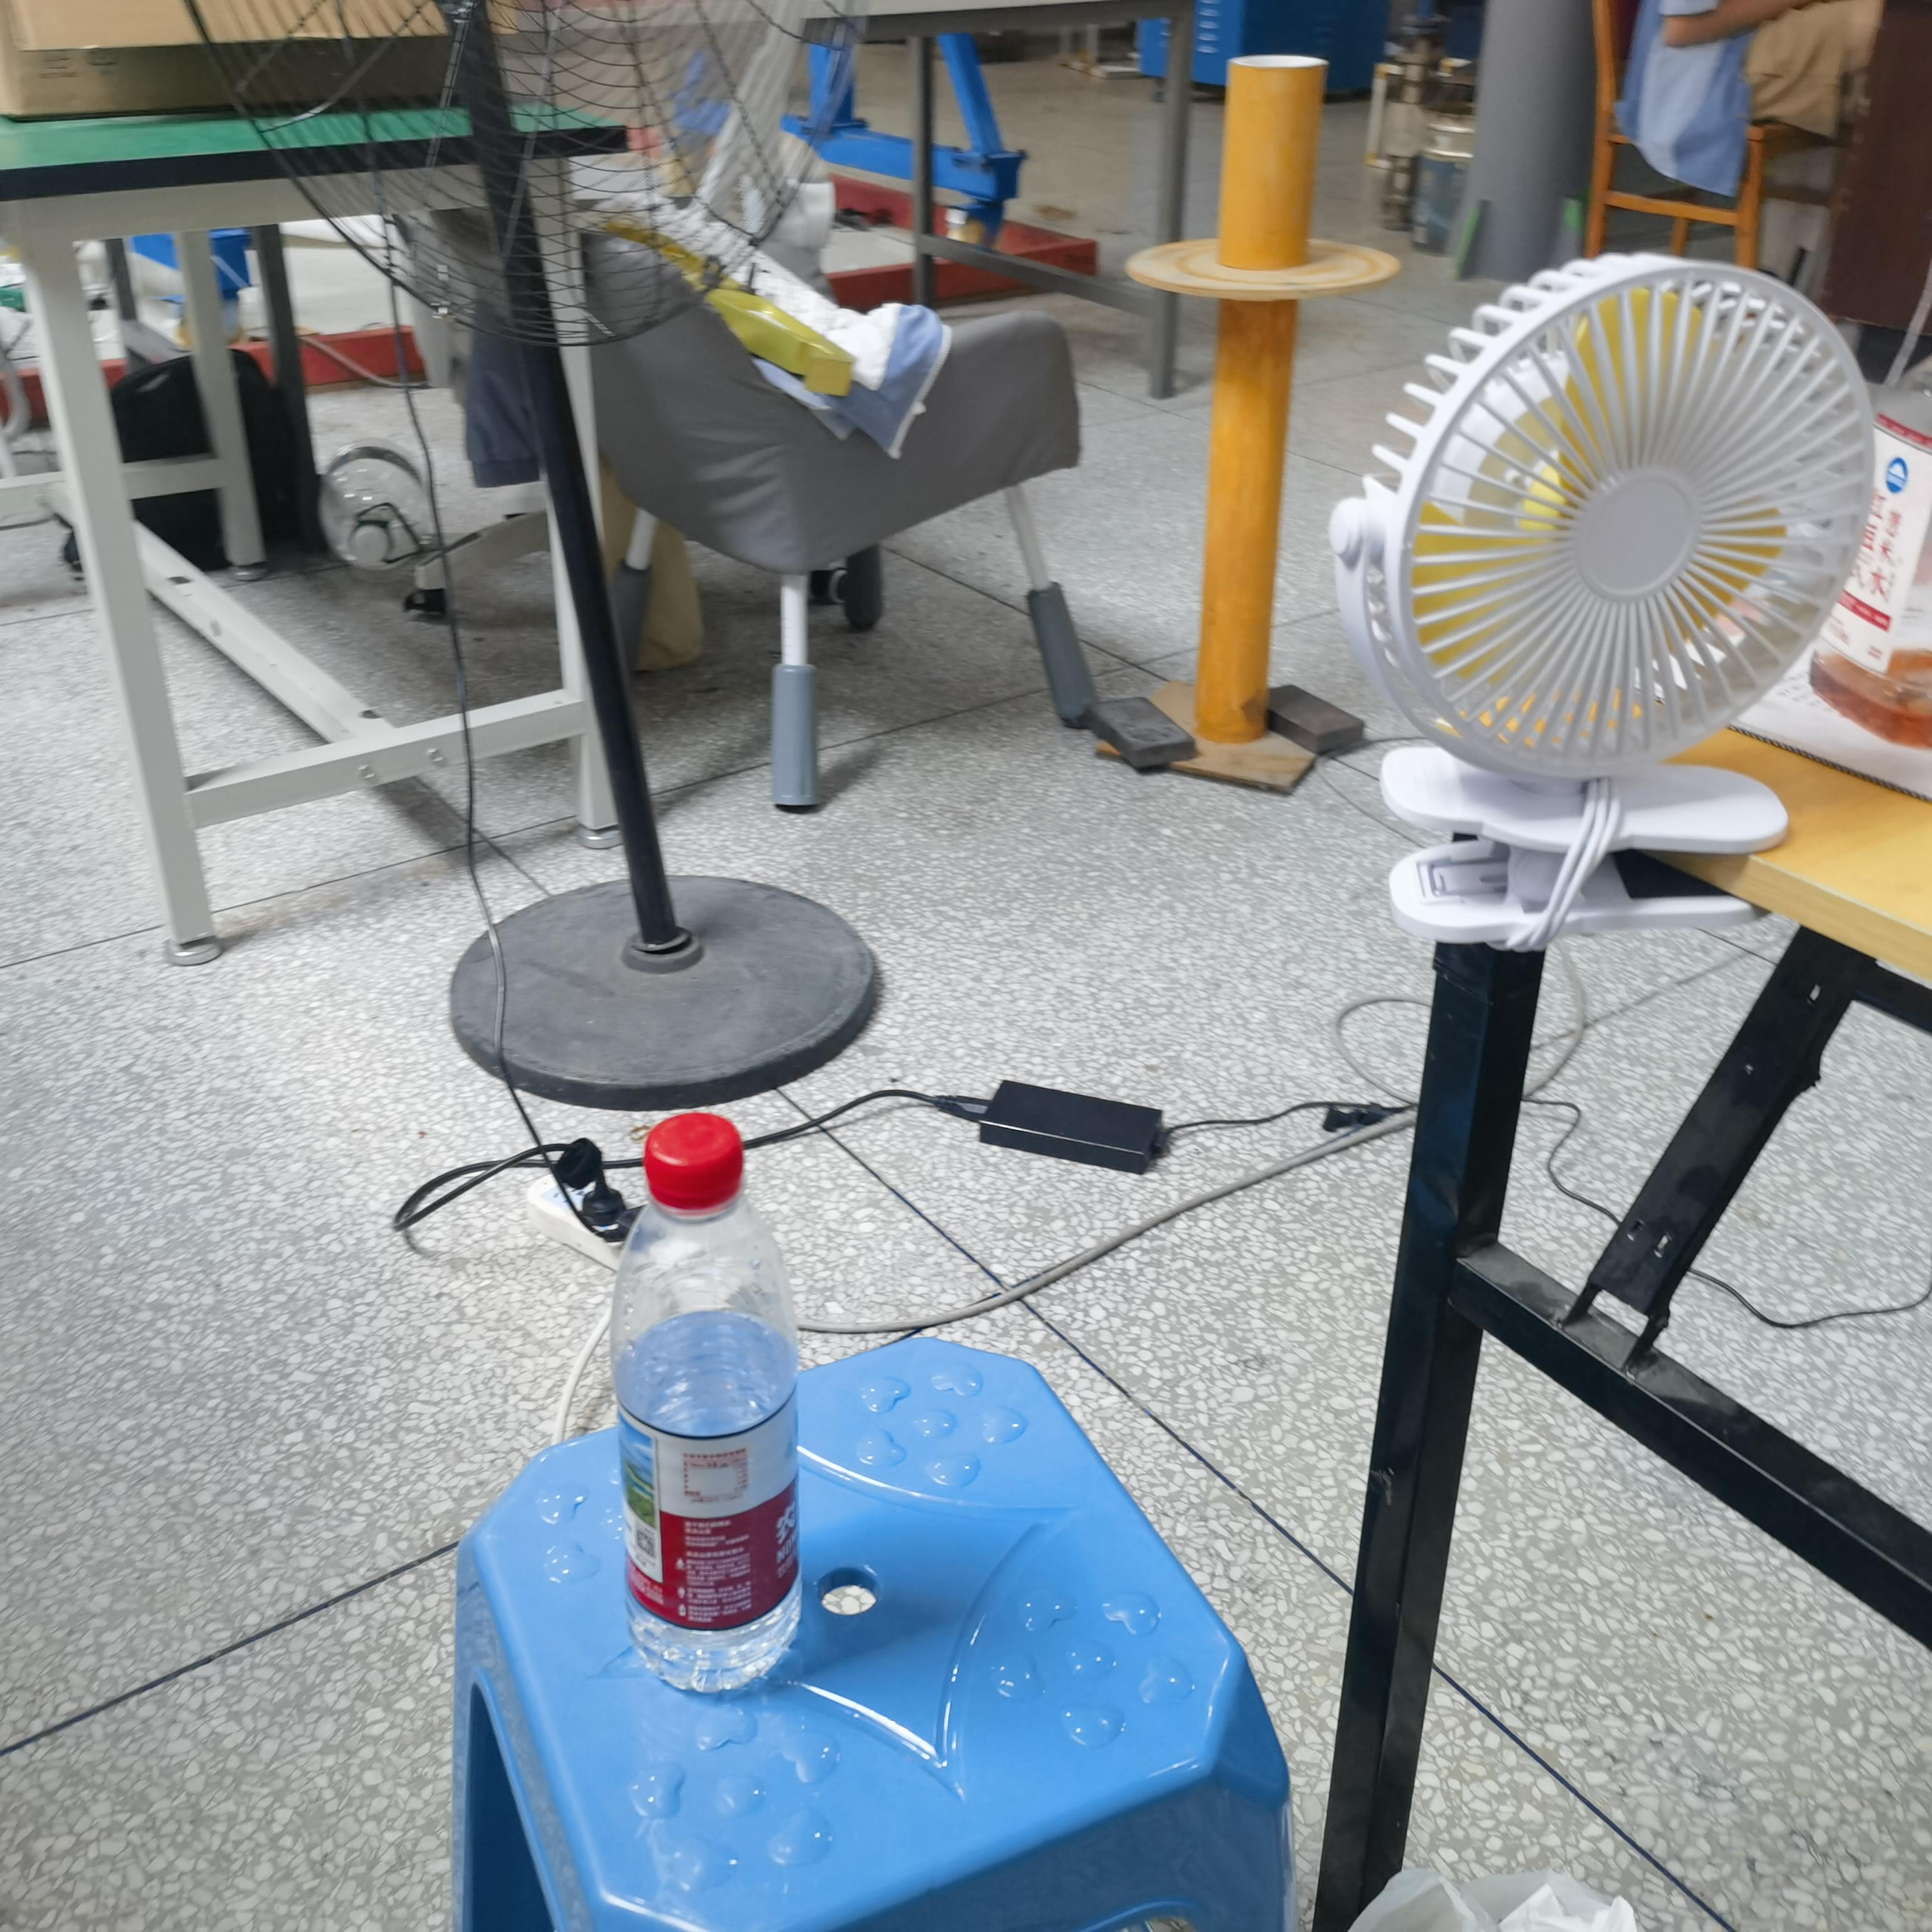bottle: (609, 1113, 801, 1695)
fan: (1330, 253, 1874, 950)
